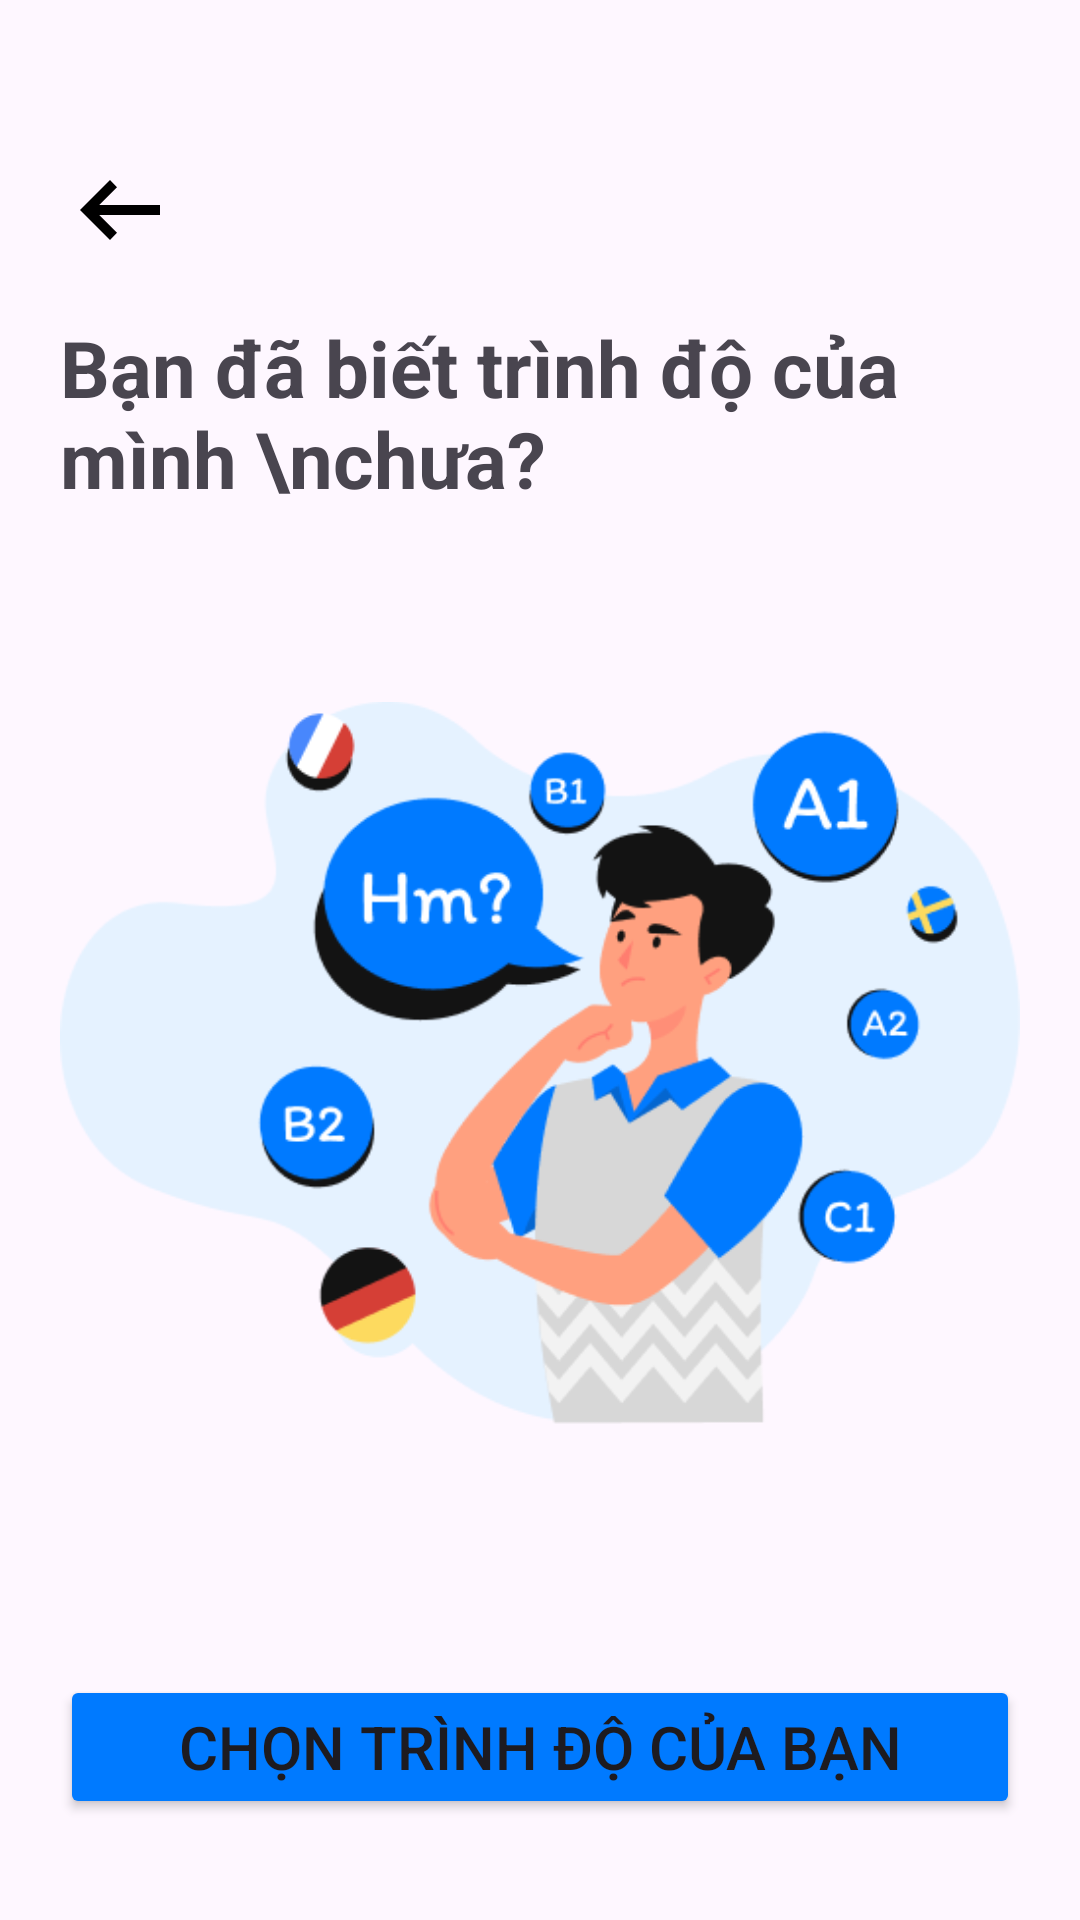

Where icons sit on this 1080×1920 app screen, as (x1, y1, x2, y2):
arrow left: (80, 180, 160, 240)
